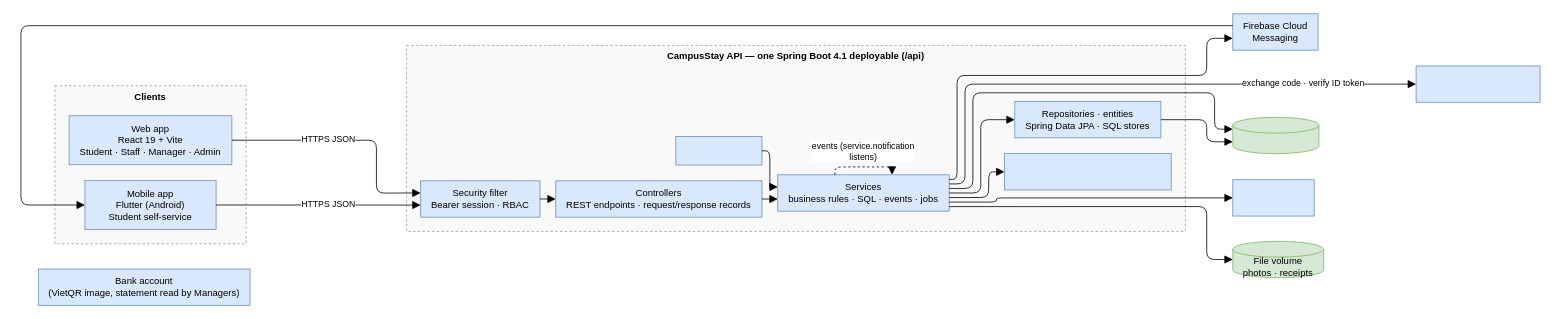
The diagram is 1554 pixels wide and 319 high, and some of its shapes have lost their labels. Here are the shapes that lost their labels. From the top down, the box of each, then its label:
(1415, 65, 1540, 102): Google Identity (token endpoint · JWKS)
(675, 136, 762, 165): Scheduled jobs
(1232, 117, 1319, 154): PostgreSQL 17 Flyway schema
(1004, 153, 1171, 190): Common · exception · config errors · paging · audit · clock · files
(1232, 179, 1314, 216): SMTP Mailpit · Gmail
